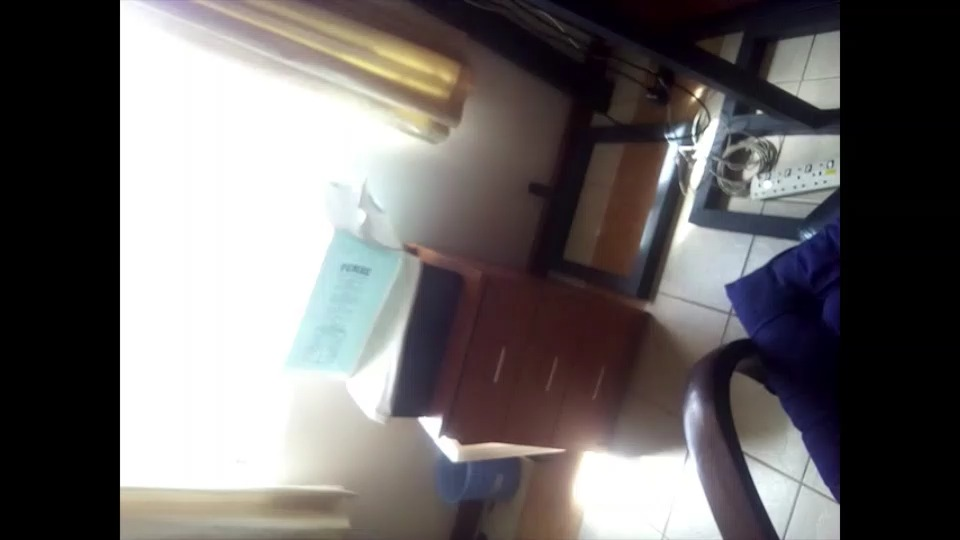maize_flour_green_label: (271, 179, 403, 379)
